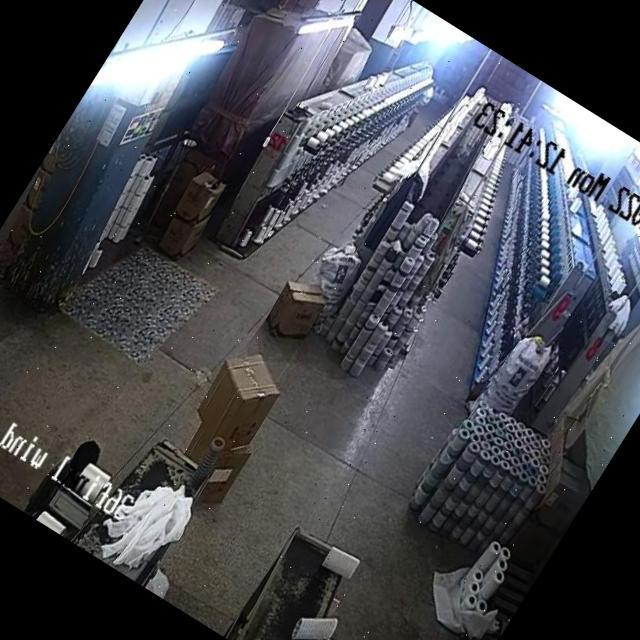person: (44, 424, 108, 502)
